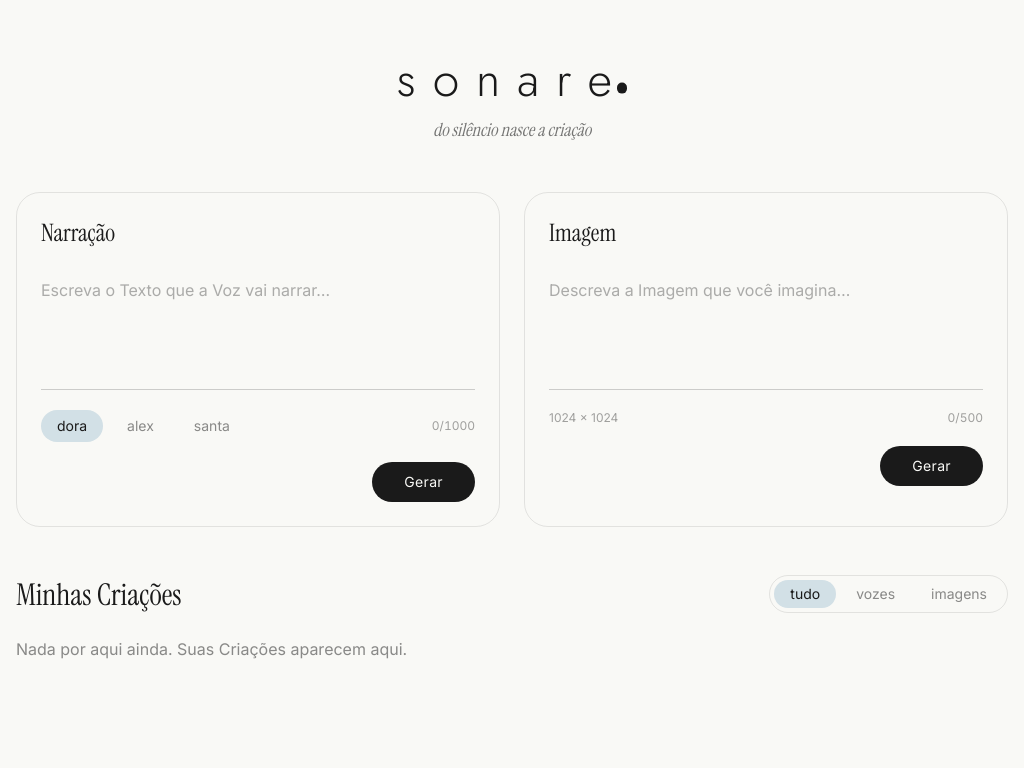
Test: Estudio: Narração › um pedido recusado mostra a mensagem no cartão e não entra na Biblioteca
The width and height of the screenshot is (1024, 768).
Type "Olá!" into the text box labelled "Texto" at (258, 330), box left=41, top=269, right=475, bottom=390
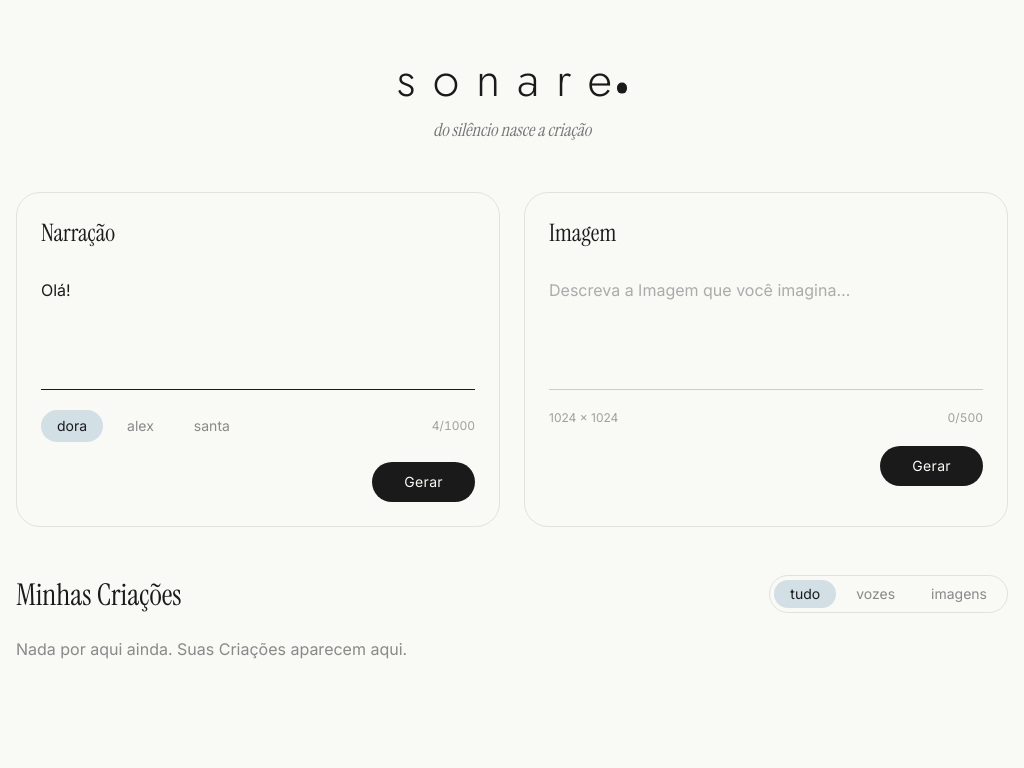
Click the button with aria-label "Gerar Narração" at (424, 482), box left=372, top=462, right=475, bottom=502
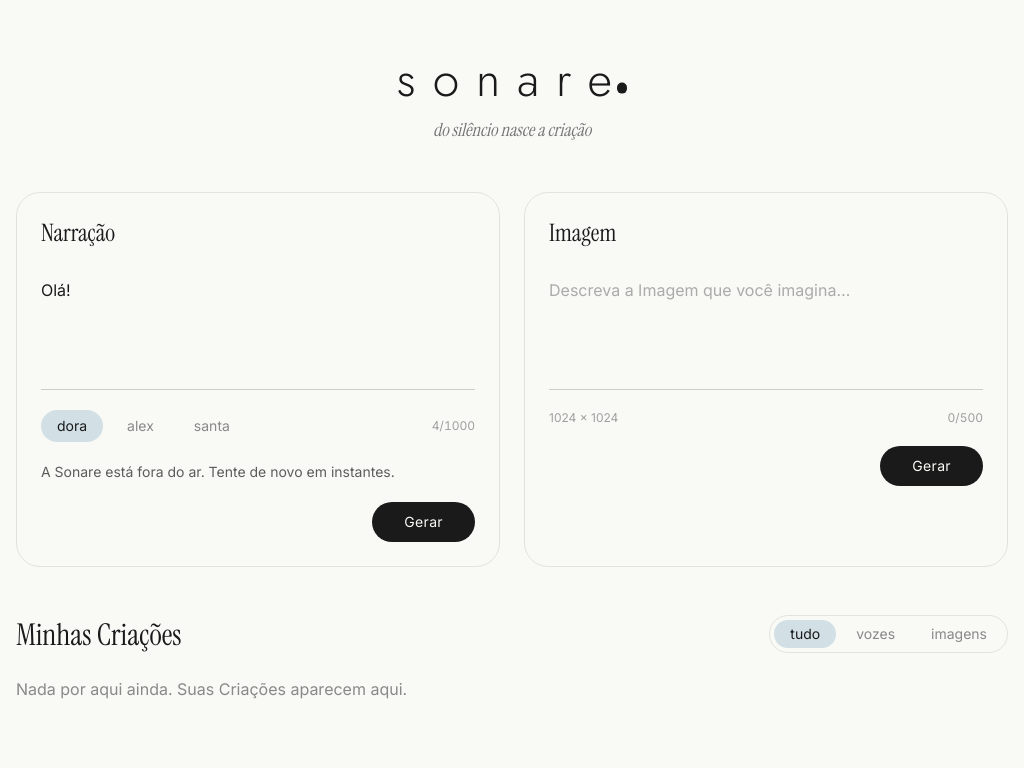
Expected: the message reads "A Sonare está fora do ar. Tente de novo em instantes.", left=41, top=463, right=395, bottom=480
